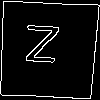Z: (23, 25, 61, 73)
